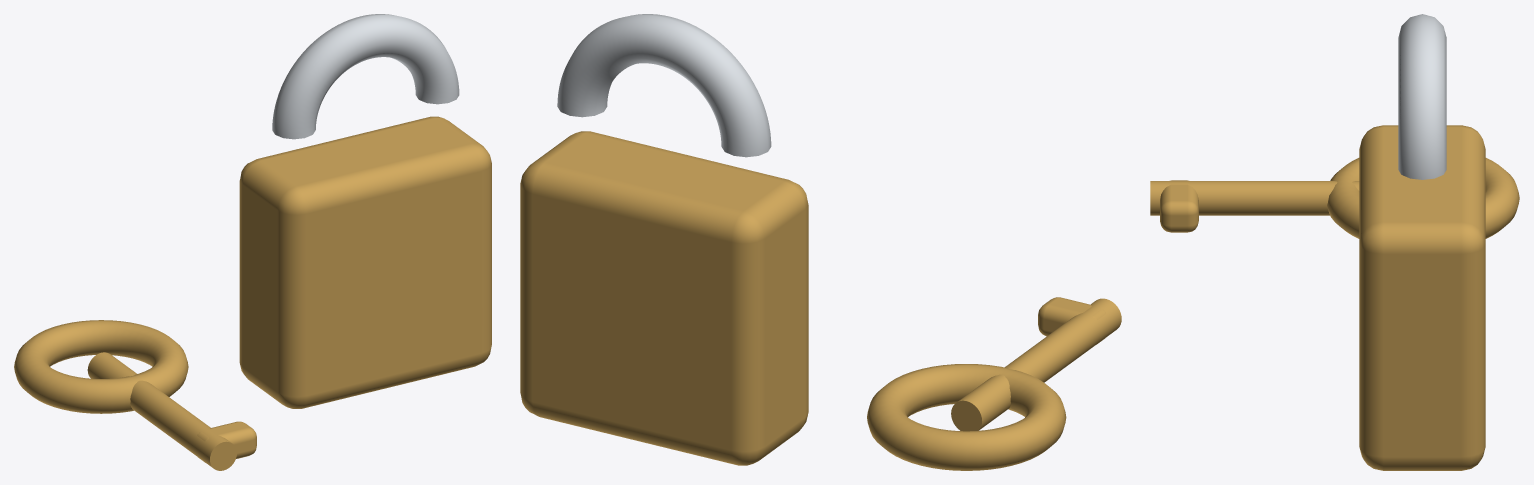
The model's file is key-lock.glb.
3 renders of one model, left to right at view 1: azimuth 30°, elevation 25°; view 2: azimuth 150°, elevation 25°; view 3: azimuth 270°, elevation 25°, orthographic. The views are drawn at different scales.
Parts seen in each view (by area): view 1: key-lock; view 2: key-lock; view 3: key-lock.
Boxes of the visible parts, box(x1,y1,x2,y2) form: key-lock: box(14, 14, 491, 470); key-lock: box(520, 14, 1121, 470); key-lock: box(1150, 14, 1519, 470).
Bounding box in the file's own units: 0.59 × 0.45 × 0.38.
